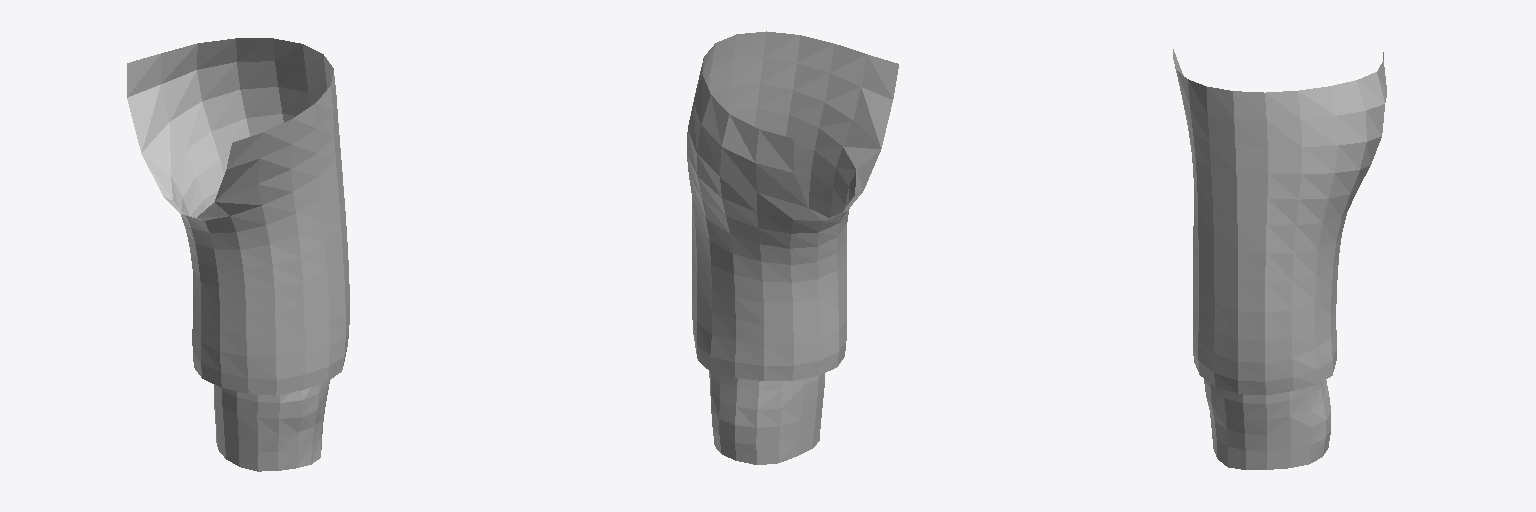
Rendered from UpperLegsL.obj.
3 renders of one model, left to right at view 1: azimuth 30°, elevation 25°; view 2: azimuth 150°, elevation 25°; view 3: azimuth 270°, elevation 25°, orthographic.
Visible parts, largest first — view 1: Ch46.009_Mesh.009; view 2: Ch46.009_Mesh.009; view 3: Ch46.009_Mesh.009.
Part boxes in pixels (left/top/right/bottom): Ch46.009_Mesh.009: left=127, top=38, right=349, bottom=471; Ch46.009_Mesh.009: left=687, top=31, right=898, bottom=464; Ch46.009_Mesh.009: left=1173, top=49, right=1386, bottom=469.
Size of the model in its own units: 0.7578 by 1.8 by 0.9098.